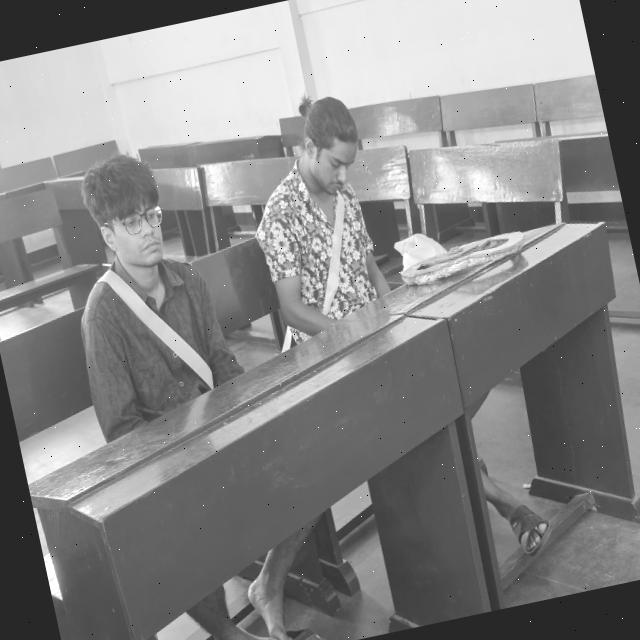seatbelt: (101, 245, 210, 410), (286, 185, 370, 330)
